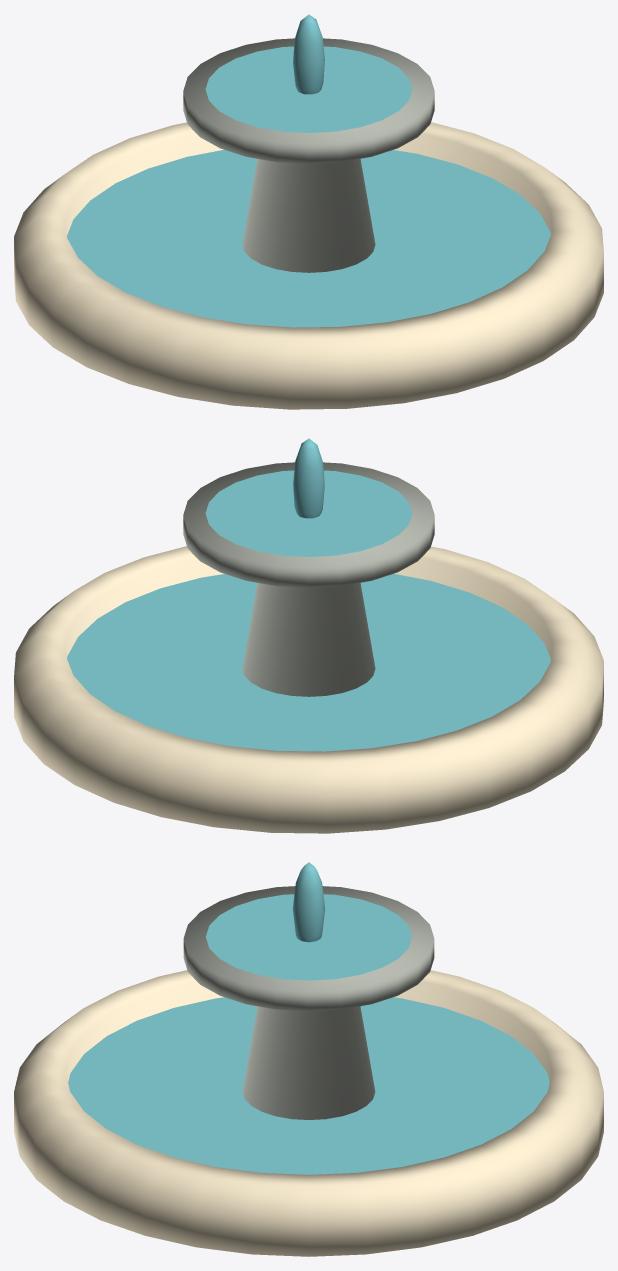
File: Plaza_fountain.fbx
3 views of the same model, one above another, from view 1: azimuth 30°, elevation 25°; view 2: azimuth 150°, elevation 25°; view 3: azimuth 270°, elevation 25° (orthographic).
Visible parts, largest first — view 1: Town_Plaza_fountain Fountain basin.001, Town_Plaza_fountain Water surface.001, Town_Plaza_fountain Center pedestal.001, Town_Plaza_fountain Upper water.001, Town_Plaza_fountain Water spout.001; view 2: Town_Plaza_fountain Fountain basin.001, Town_Plaza_fountain Water surface.001, Town_Plaza_fountain Center pedestal.001, Town_Plaza_fountain Upper water.001, Town_Plaza_fountain Water spout.001; view 3: Town_Plaza_fountain Fountain basin.001, Town_Plaza_fountain Water surface.001, Town_Plaza_fountain Center pedestal.001, Town_Plaza_fountain Upper water.001, Town_Plaza_fountain Water spout.001.
Boxes of the visible parts, x1,y1,x2,y2 form: Town_Plaza_fountain Fountain basin.001: (14, 122, 603, 409); Town_Plaza_fountain Water surface.001: (67, 149, 550, 327); Town_Plaza_fountain Center pedestal.001: (183, 38, 434, 272); Town_Plaza_fountain Upper water.001: (205, 46, 412, 132); Town_Plaza_fountain Water spout.001: (293, 14, 324, 94); Town_Plaza_fountain Fountain basin.001: (14, 546, 603, 833); Town_Plaza_fountain Water surface.001: (67, 573, 550, 751); Town_Plaza_fountain Center pedestal.001: (183, 462, 434, 696); Town_Plaza_fountain Upper water.001: (205, 470, 412, 556); Town_Plaza_fountain Water spout.001: (293, 438, 324, 518); Town_Plaza_fountain Fountain basin.001: (14, 970, 603, 1256); Town_Plaza_fountain Water surface.001: (68, 997, 549, 1174); Town_Plaza_fountain Center pedestal.001: (183, 886, 434, 1119); Town_Plaza_fountain Upper water.001: (206, 894, 411, 980); Town_Plaza_fountain Water spout.001: (292, 862, 325, 942).
Size of the model in its own units: 400 by 202 by 400.
